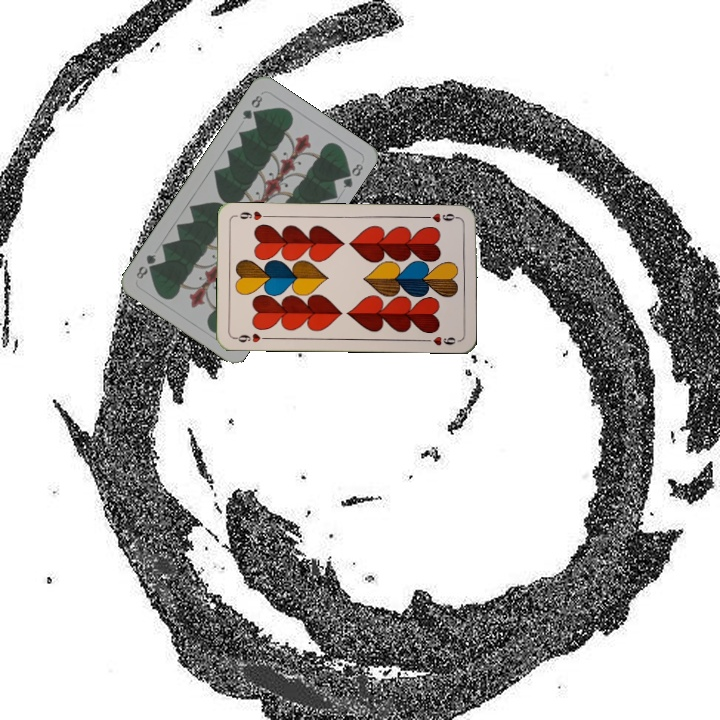G8: (238, 91, 265, 122)
H9: (231, 329, 271, 345), (421, 209, 461, 225)
